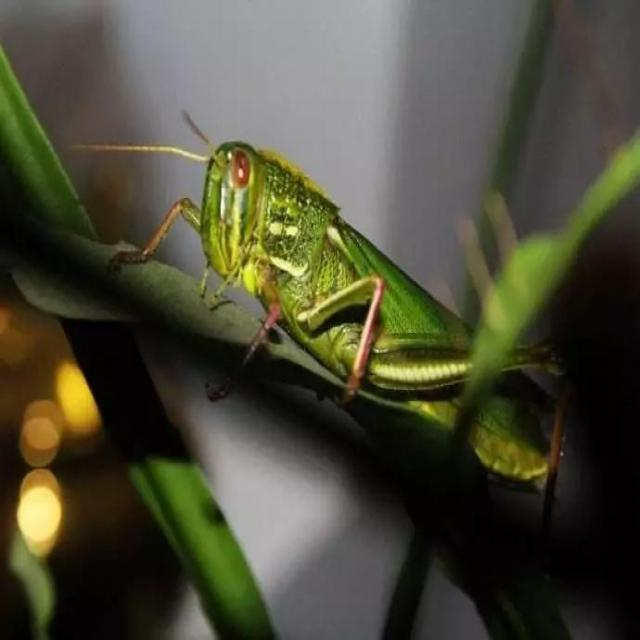ZhaMeng: (159, 117, 566, 478)
